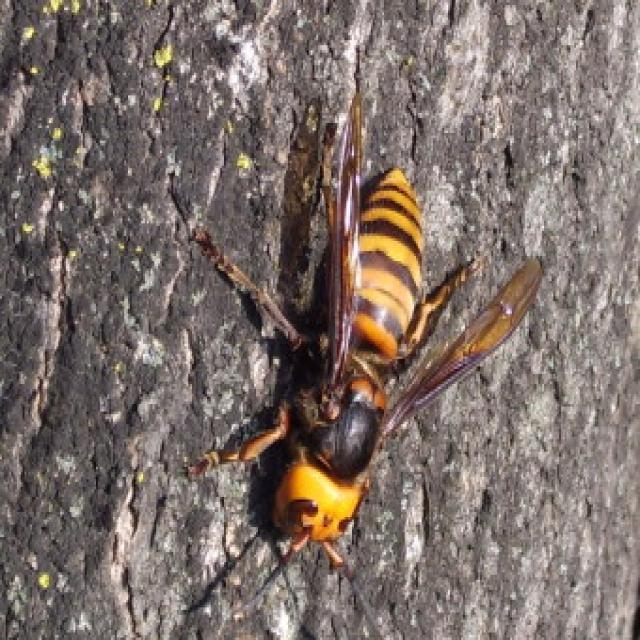Wasp: (186, 55, 545, 592)
